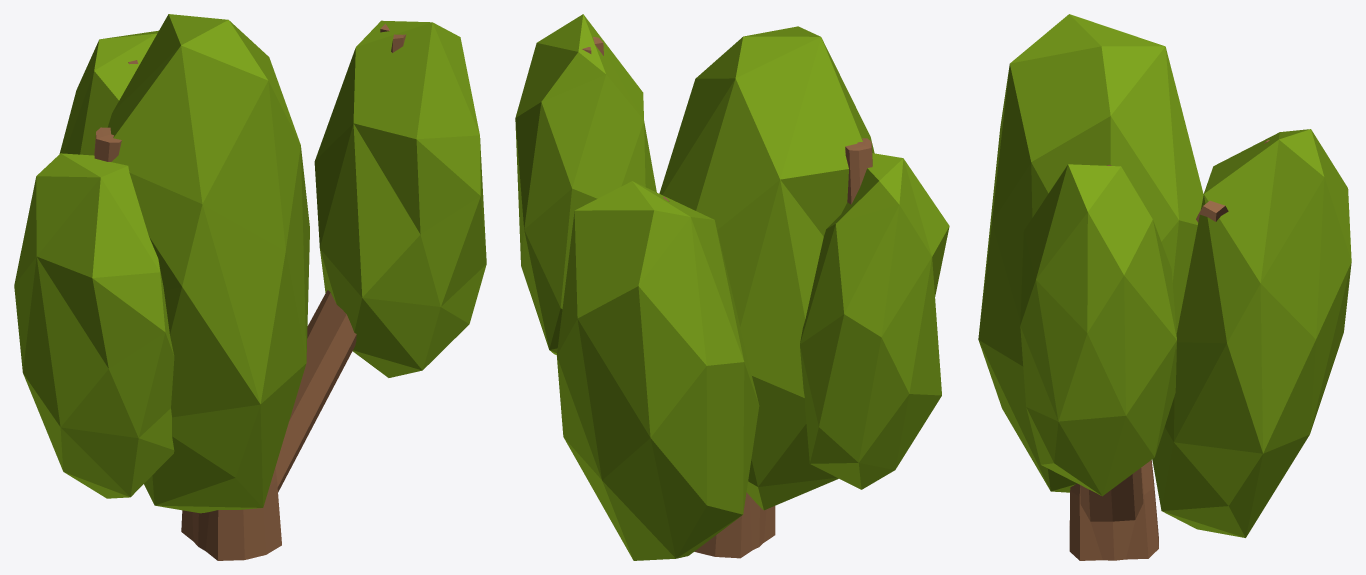
Rendered from tree-summer-complete-13-056.glb.
3 views of the same model, side by side, from view 1: azimuth 30°, elevation 25°; view 2: azimuth 150°, elevation 25°; view 3: azimuth 270°, elevation 25° (orthographic). The views are drawn at different scales.
Visible parts, largest first — view 1: TREE 13_286, TREE 13.001_287; view 2: TREE 13_286, TREE 13.001_287; view 3: TREE 13_286, TREE 13.001_287.
Part boxes in pixels (box(x1,y1,x2,y2)): TREE 13_286: box(14, 14, 486, 513); TREE 13.001_287: box(94, 23, 406, 560); TREE 13_286: box(515, 14, 949, 560); TREE 13.001_287: box(582, 37, 872, 558); TREE 13_286: box(978, 14, 1351, 537); TREE 13.001_287: box(1069, 140, 1269, 560).
Size of the model in its own units: 0.9813 by 1.14 by 0.7767.
